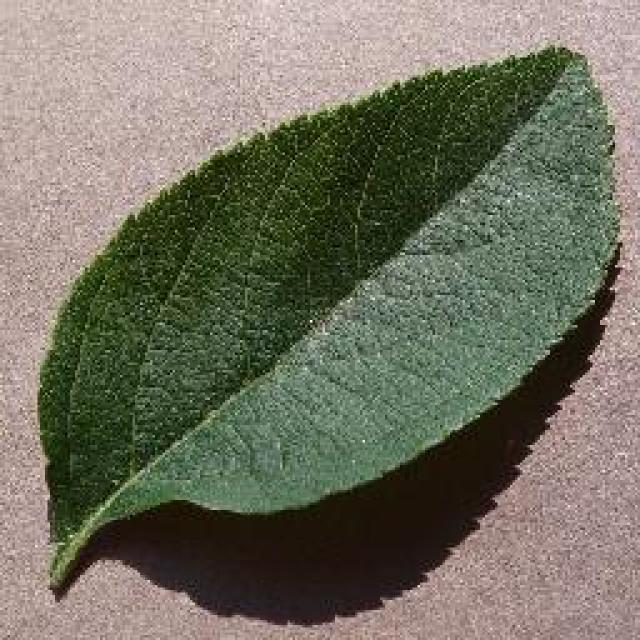apple healthy: (32, 40, 622, 592)
